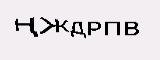И: (44, 15, 64, 36)
Т: (82, 15, 98, 37)
Ф: (66, 13, 83, 35)
Щ: (100, 20, 128, 44)
Я: (31, 18, 47, 39)
